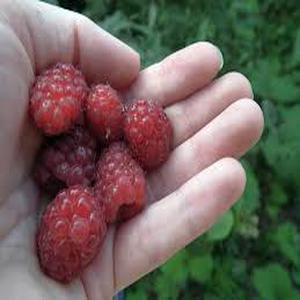raspb: (16, 54, 179, 288)
